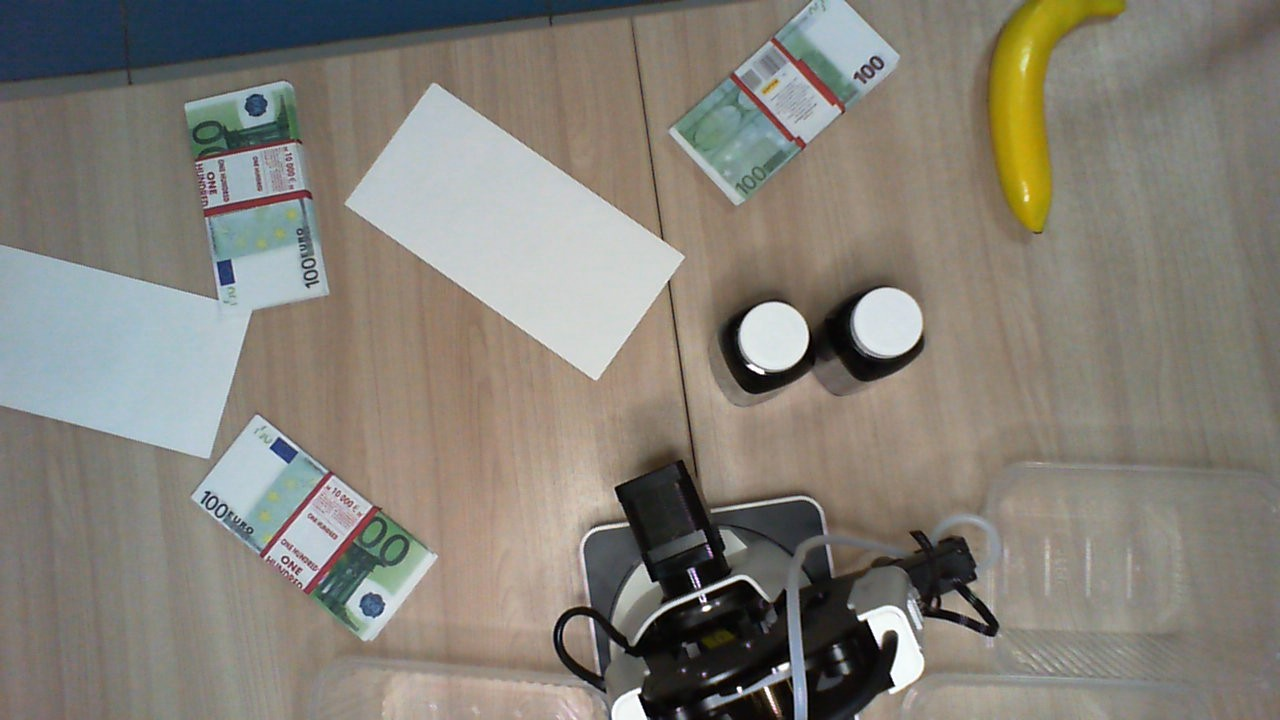banana: (983, 1, 1130, 237)
bottle: (823, 280, 925, 380), (716, 297, 814, 398)
convert: (334, 81, 683, 378), (1, 243, 256, 458)
money: (193, 413, 438, 639), (668, 1, 902, 206), (186, 82, 323, 316)
